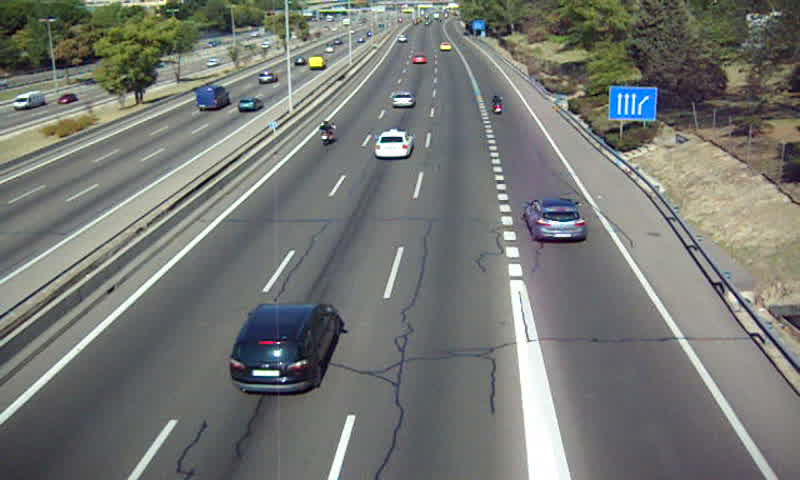car: (228, 303, 336, 392), (527, 199, 586, 241), (375, 130, 412, 158), (390, 91, 414, 108), (411, 53, 429, 66)
motorcycle: (319, 119, 337, 147), (490, 95, 504, 114)
